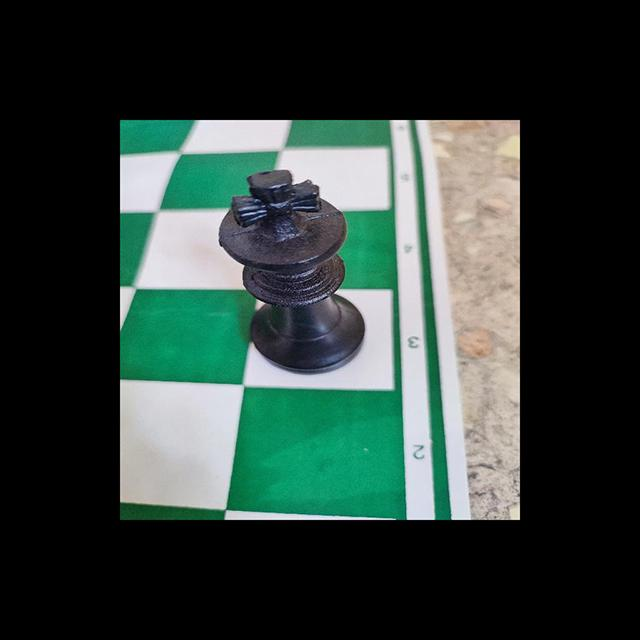black-king: (198, 172, 384, 410)
